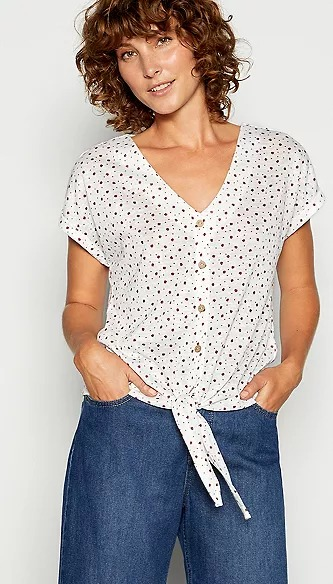C_jeans: (60, 393, 291, 584)
C_short blouse: (60, 120, 323, 521)
